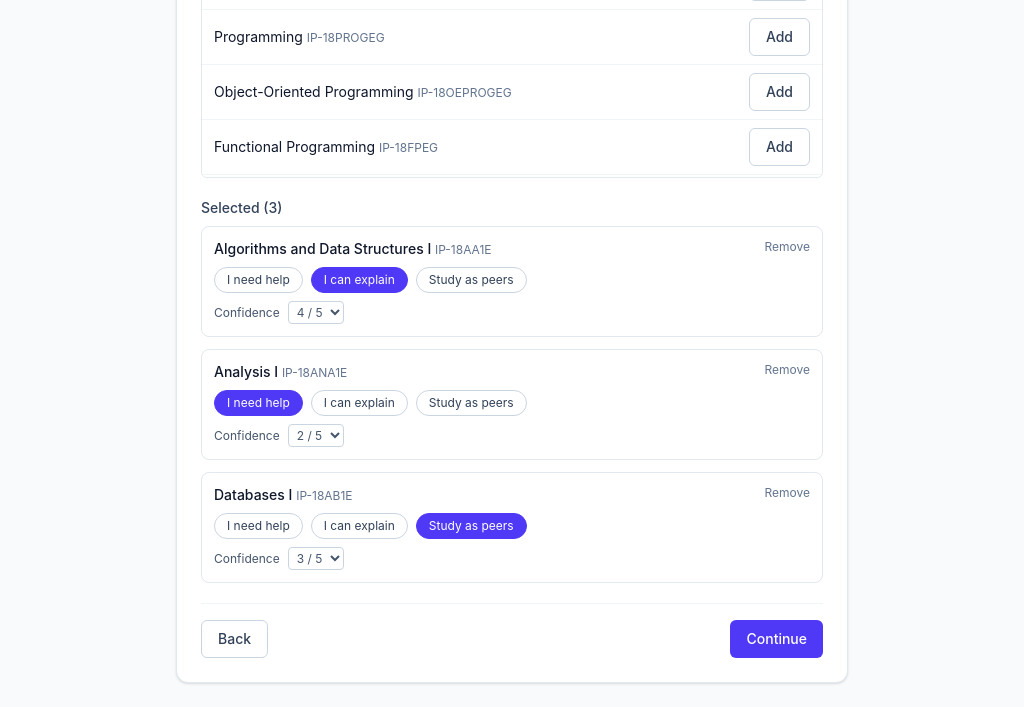
Scenario: Onboarding: subjects step › can remove a subject and go back to the profile step
(page scrolled)
What coordinates should you click on to do the following:
click the button with aria-label "Remove Analysis I"
I would click on:
 (787, 370)
Its box is [764,362,810,378].
(page scrolled)
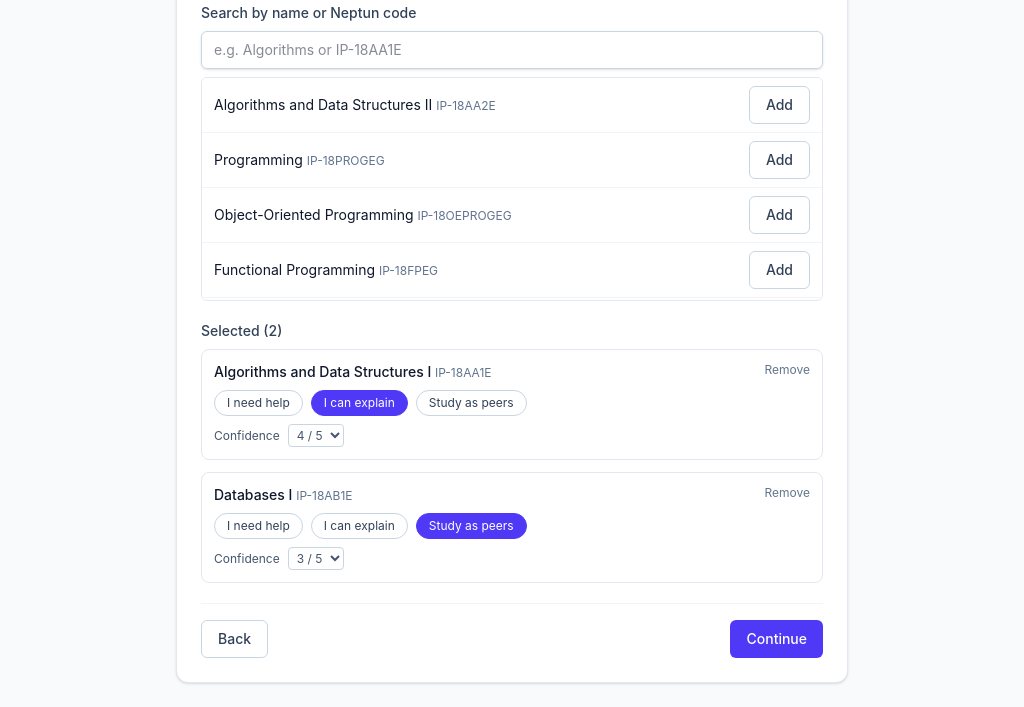
Expected: the heading "Selected (2)" is shown, [201,322,282,339]
What coordinates should you click on to do the following:
click the button "Back"
I would click on:
 (235, 639)
Its box is [201,620,268,658].
(page scrolled)
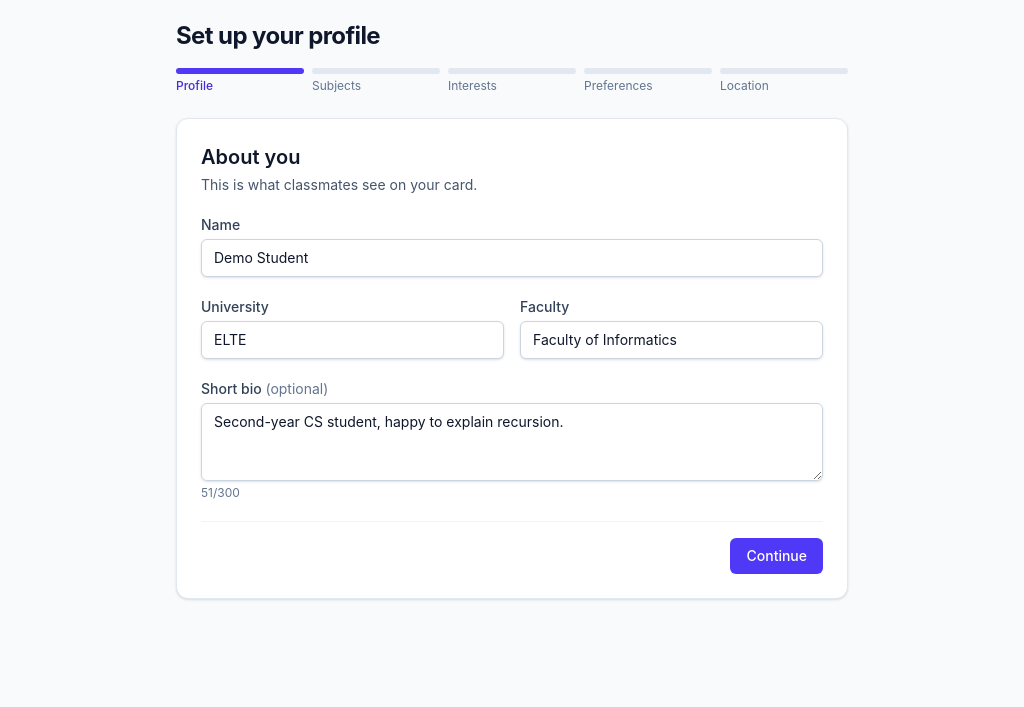
Expected: the heading "About you" is shown, [201,145,300,169]
